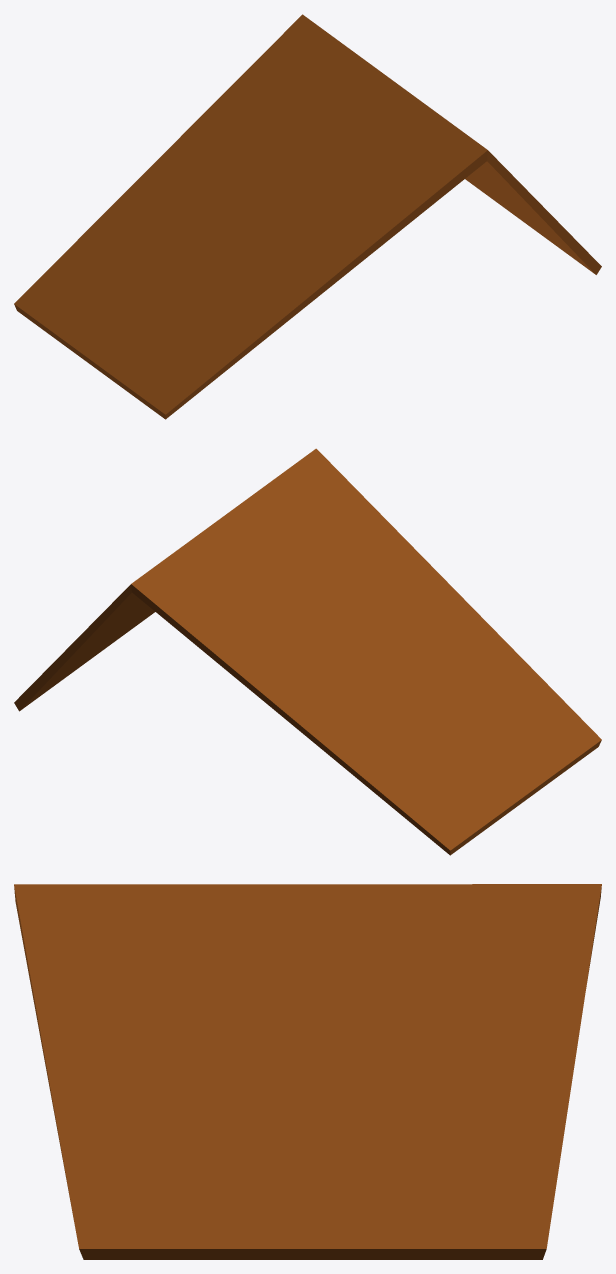
File: roof_mdl.fbx
3 renders of one model, top to bottom at view 1: azimuth 30°, elevation 25°; view 2: azimuth 150°, elevation 25°; view 3: azimuth 270°, elevation 25°, orthographic. The views are drawn at different scales.
Visible parts, largest first — view 1: roof_GEO; view 2: roof_GEO; view 3: roof_GEO.
Boxes of the visible parts, x1,y1,x2,y2 form: roof_GEO: [14, 14, 601, 419]; roof_GEO: [14, 448, 601, 855]; roof_GEO: [14, 884, 601, 1259].
Size of the model in its own units: 3546 by 1625 by 2596.
